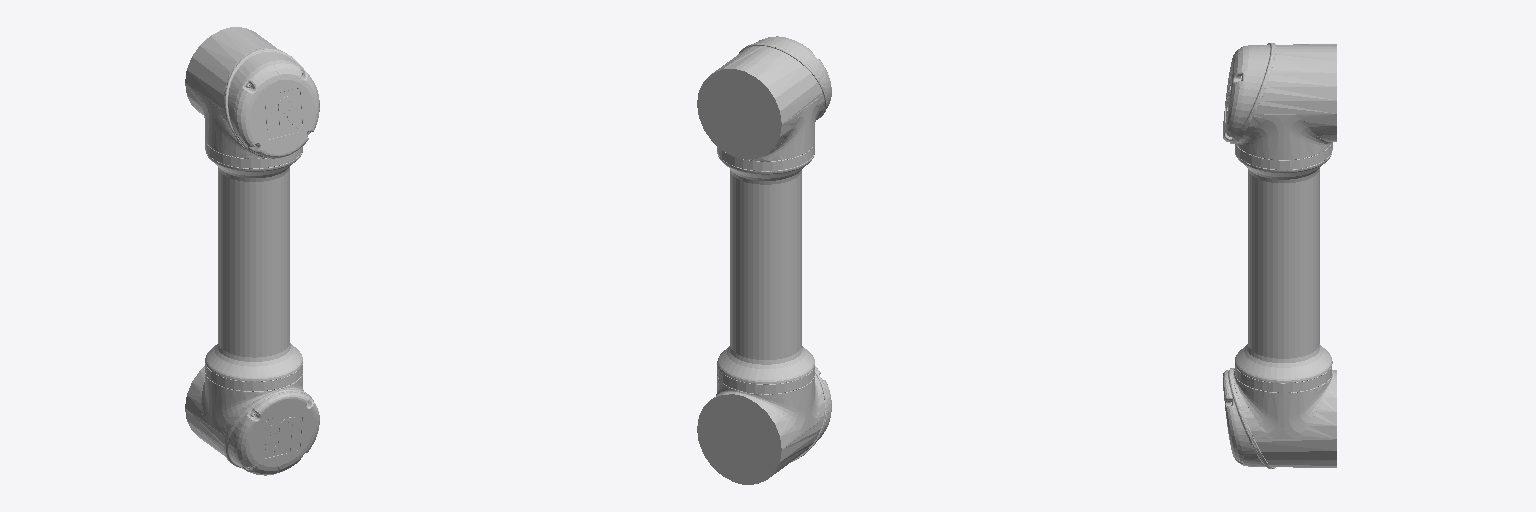
Rendered from armL link2.005.obj.
The picture shows the model from 3 angles: view 1: azimuth 30°, elevation 25°; view 2: azimuth 150°, elevation 25°; view 3: azimuth 270°, elevation 25°; orthographic projection.
Visible parts, largest first — view 1: collision_0_armR_link2_armL_link2.005; view 2: collision_0_armR_link2_armL_link2.005; view 3: collision_0_armR_link2_armL_link2.005.
Part boxes in pixels (bbox=[...]): collision_0_armR_link2_armL_link2.005: bbox=[185, 27, 319, 475]; collision_0_armR_link2_armL_link2.005: bbox=[697, 36, 831, 484]; collision_0_armR_link2_armL_link2.005: bbox=[1223, 43, 1336, 468].
Size of the model in its own units: 0.0601 by 0.2726 by 0.0677.